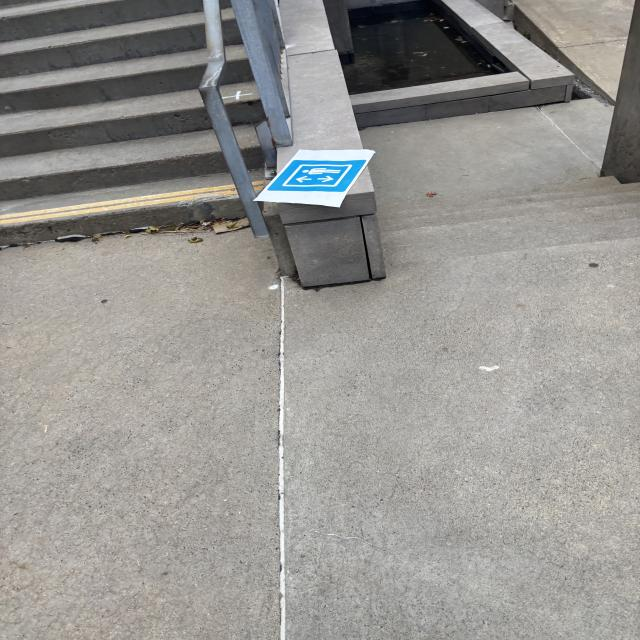elevator: (269, 161, 367, 192)
